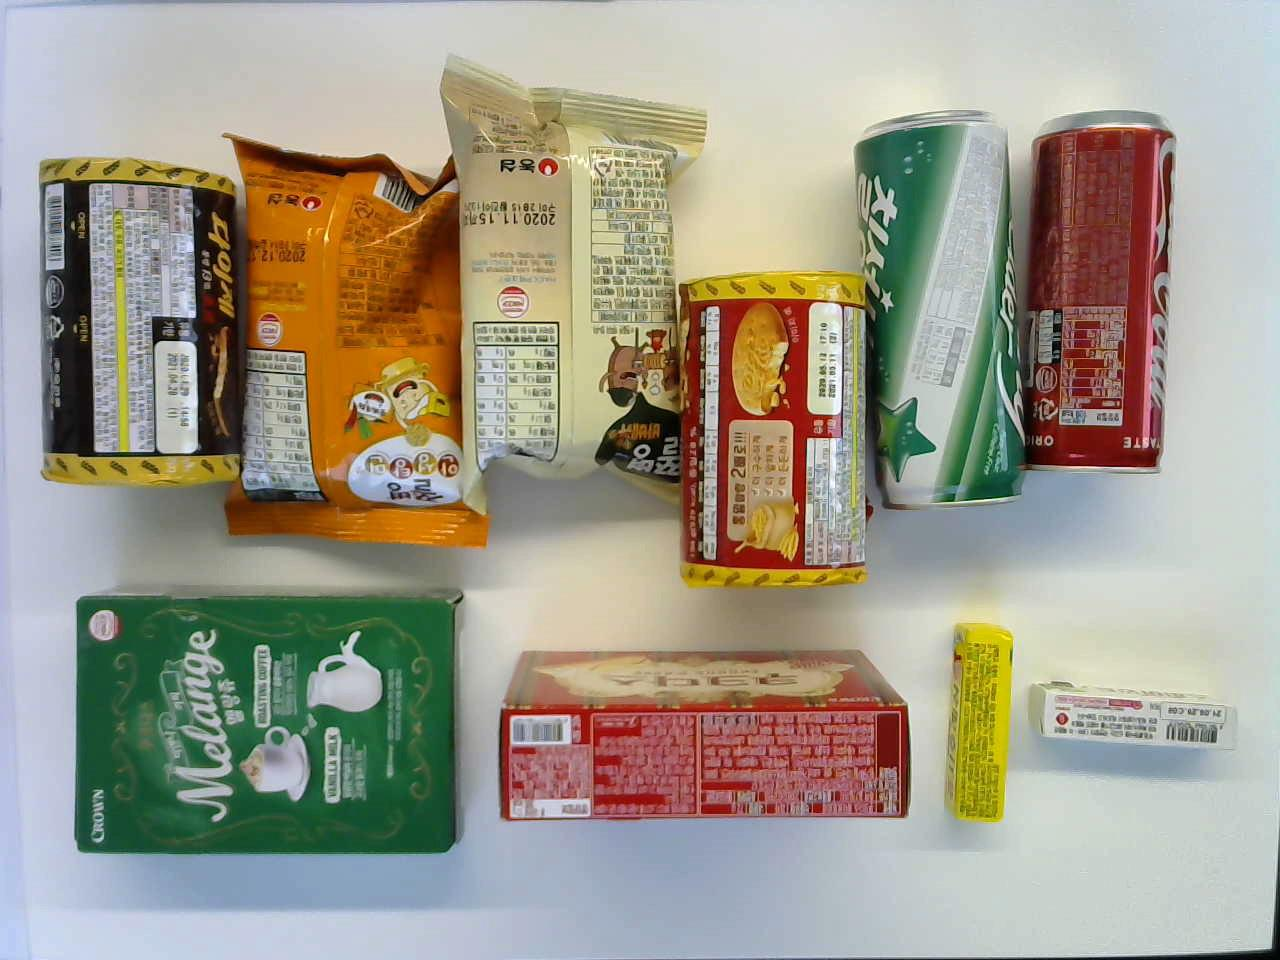cidar: (851, 107, 1026, 511)
coke: (1022, 103, 1180, 467)
couque_coffee: (65, 573, 472, 857)
couque_white: (489, 644, 915, 819)
diget_choco: (32, 152, 245, 495)
diget_ori: (675, 261, 876, 592)
jjolbyung_noodle: (220, 121, 486, 548)
jjolbyung_ori: (432, 43, 706, 499)
juicyfresh: (943, 617, 1020, 828)
spearmint: (1030, 672, 1248, 767)
